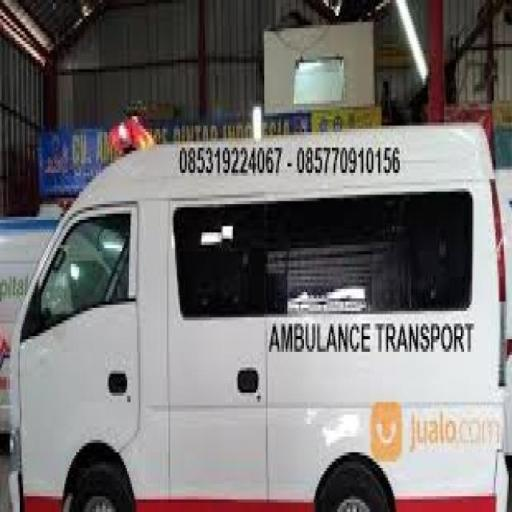Police car: (5, 141, 510, 509)
